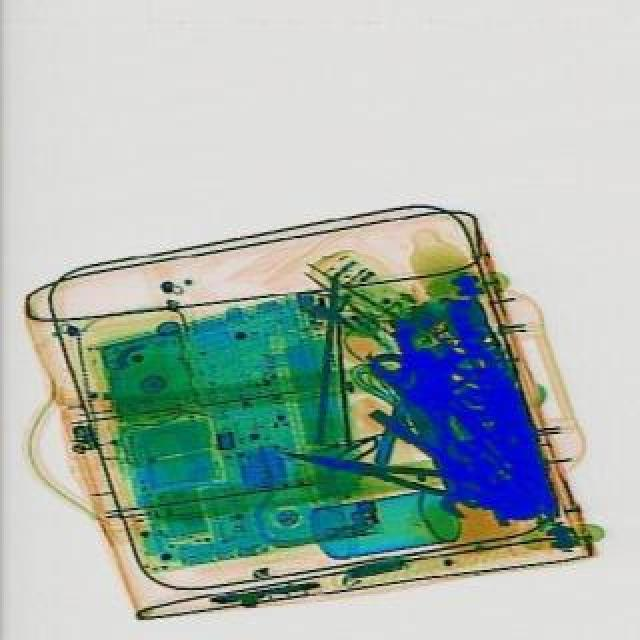wrench: (278, 438, 450, 498)
